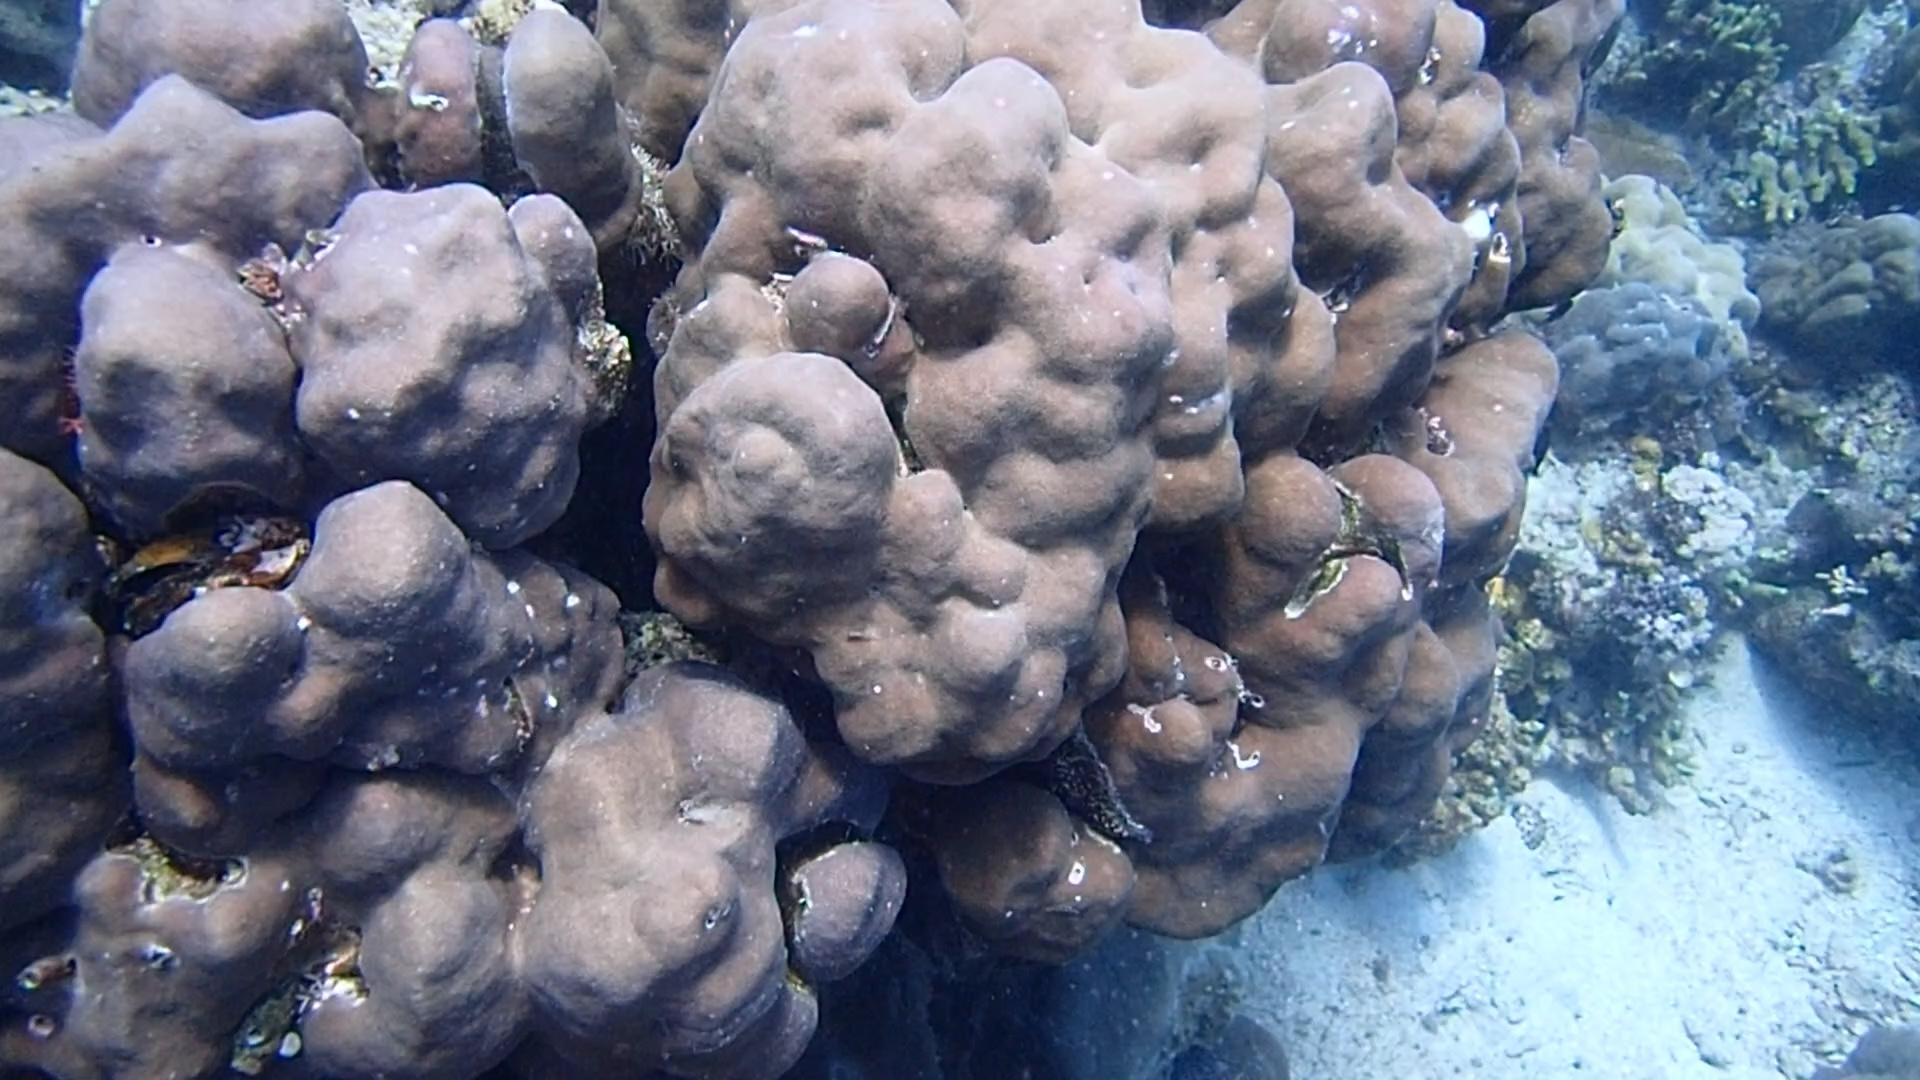Dark Fish: (1539, 291, 1581, 332)
